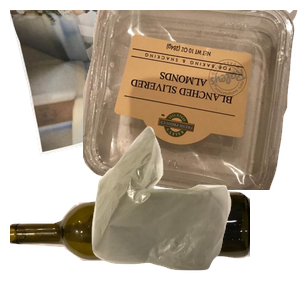glass: (10, 189, 250, 300)
paper: (10, 10, 233, 158)
plastic: (83, 10, 300, 190)
trash: (89, 124, 300, 300)
